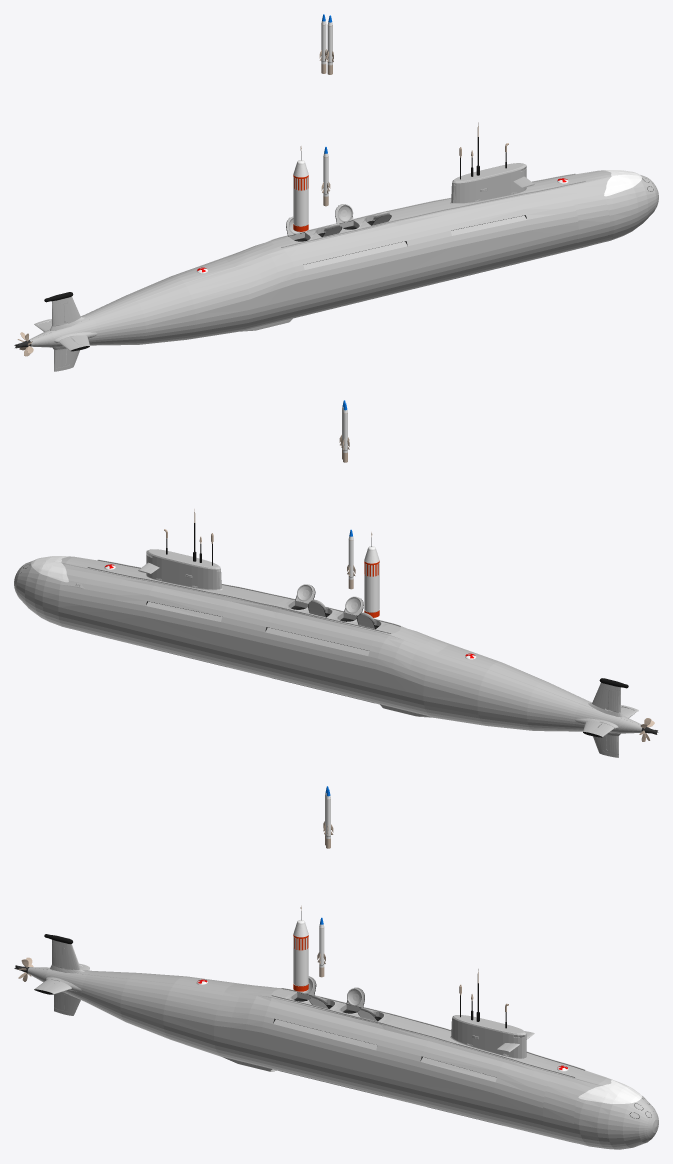
File: Arihant.obj
3 renders of one model, top to bottom at view 1: azimuth 30°, elevation 25°; view 2: azimuth 150°, elevation 25°; view 3: azimuth 330°, elevation 25°, orthographic.
Parts seen in each view (by area): view 1: Hull_Cylinder, Conning_Tower_Cylinder.001, Depth_Marker_Cylinder.018, K-4_Missile_Cube.003, Ice_Rail_ice_rail, USHUS_Sonar_Cylinder.024; view 2: Hull_Cylinder, Conning_Tower_Cylinder.001, K-4_Missile_Cube.003, Ice_Rail_ice_rail, USHUS_Sonar_Cylinder.024; view 3: Hull_Cylinder, Conning_Tower_Cylinder.001, Depth_Marker_Cylinder.018, K-4_Missile_Cube.003, USHUS_Sonar_Cylinder.024, Ice_Rail_ice_rail.
Boxes of the visible parts, x1,y1,x2,y2 form: Hull_Cylinder: [29, 170, 658, 371]; Conning_Tower_Cylinder.001: [450, 163, 526, 204]; Depth_Marker_Cylinder.018: [570, 189, 609, 242]; K-4_Missile_Cube.003: [293, 160, 308, 232]; Ice_Rail_ice_rail: [271, 173, 585, 247]; USHUS_Sonar_Cylinder.024: [604, 170, 641, 196]; Hull_Cylinder: [14, 556, 641, 757]; Conning_Tower_Cylinder.001: [146, 549, 222, 590]; K-4_Missile_Cube.003: [364, 546, 379, 618]; Ice_Rail_ice_rail: [87, 559, 401, 633]; USHUS_Sonar_Cylinder.024: [31, 556, 68, 582]; Hull_Cylinder: [27, 934, 658, 1149]; Conning_Tower_Cylinder.001: [450, 1015, 526, 1058]; Depth_Marker_Cylinder.018: [543, 1081, 581, 1136]; K-4_Missile_Cube.003: [293, 920, 308, 992]; USHUS_Sonar_Cylinder.024: [578, 1078, 641, 1103]; Ice_Rail_ice_rail: [271, 988, 585, 1077].
Bounding box in the file's own units: 20.82 × 9.01 × 2.06.
